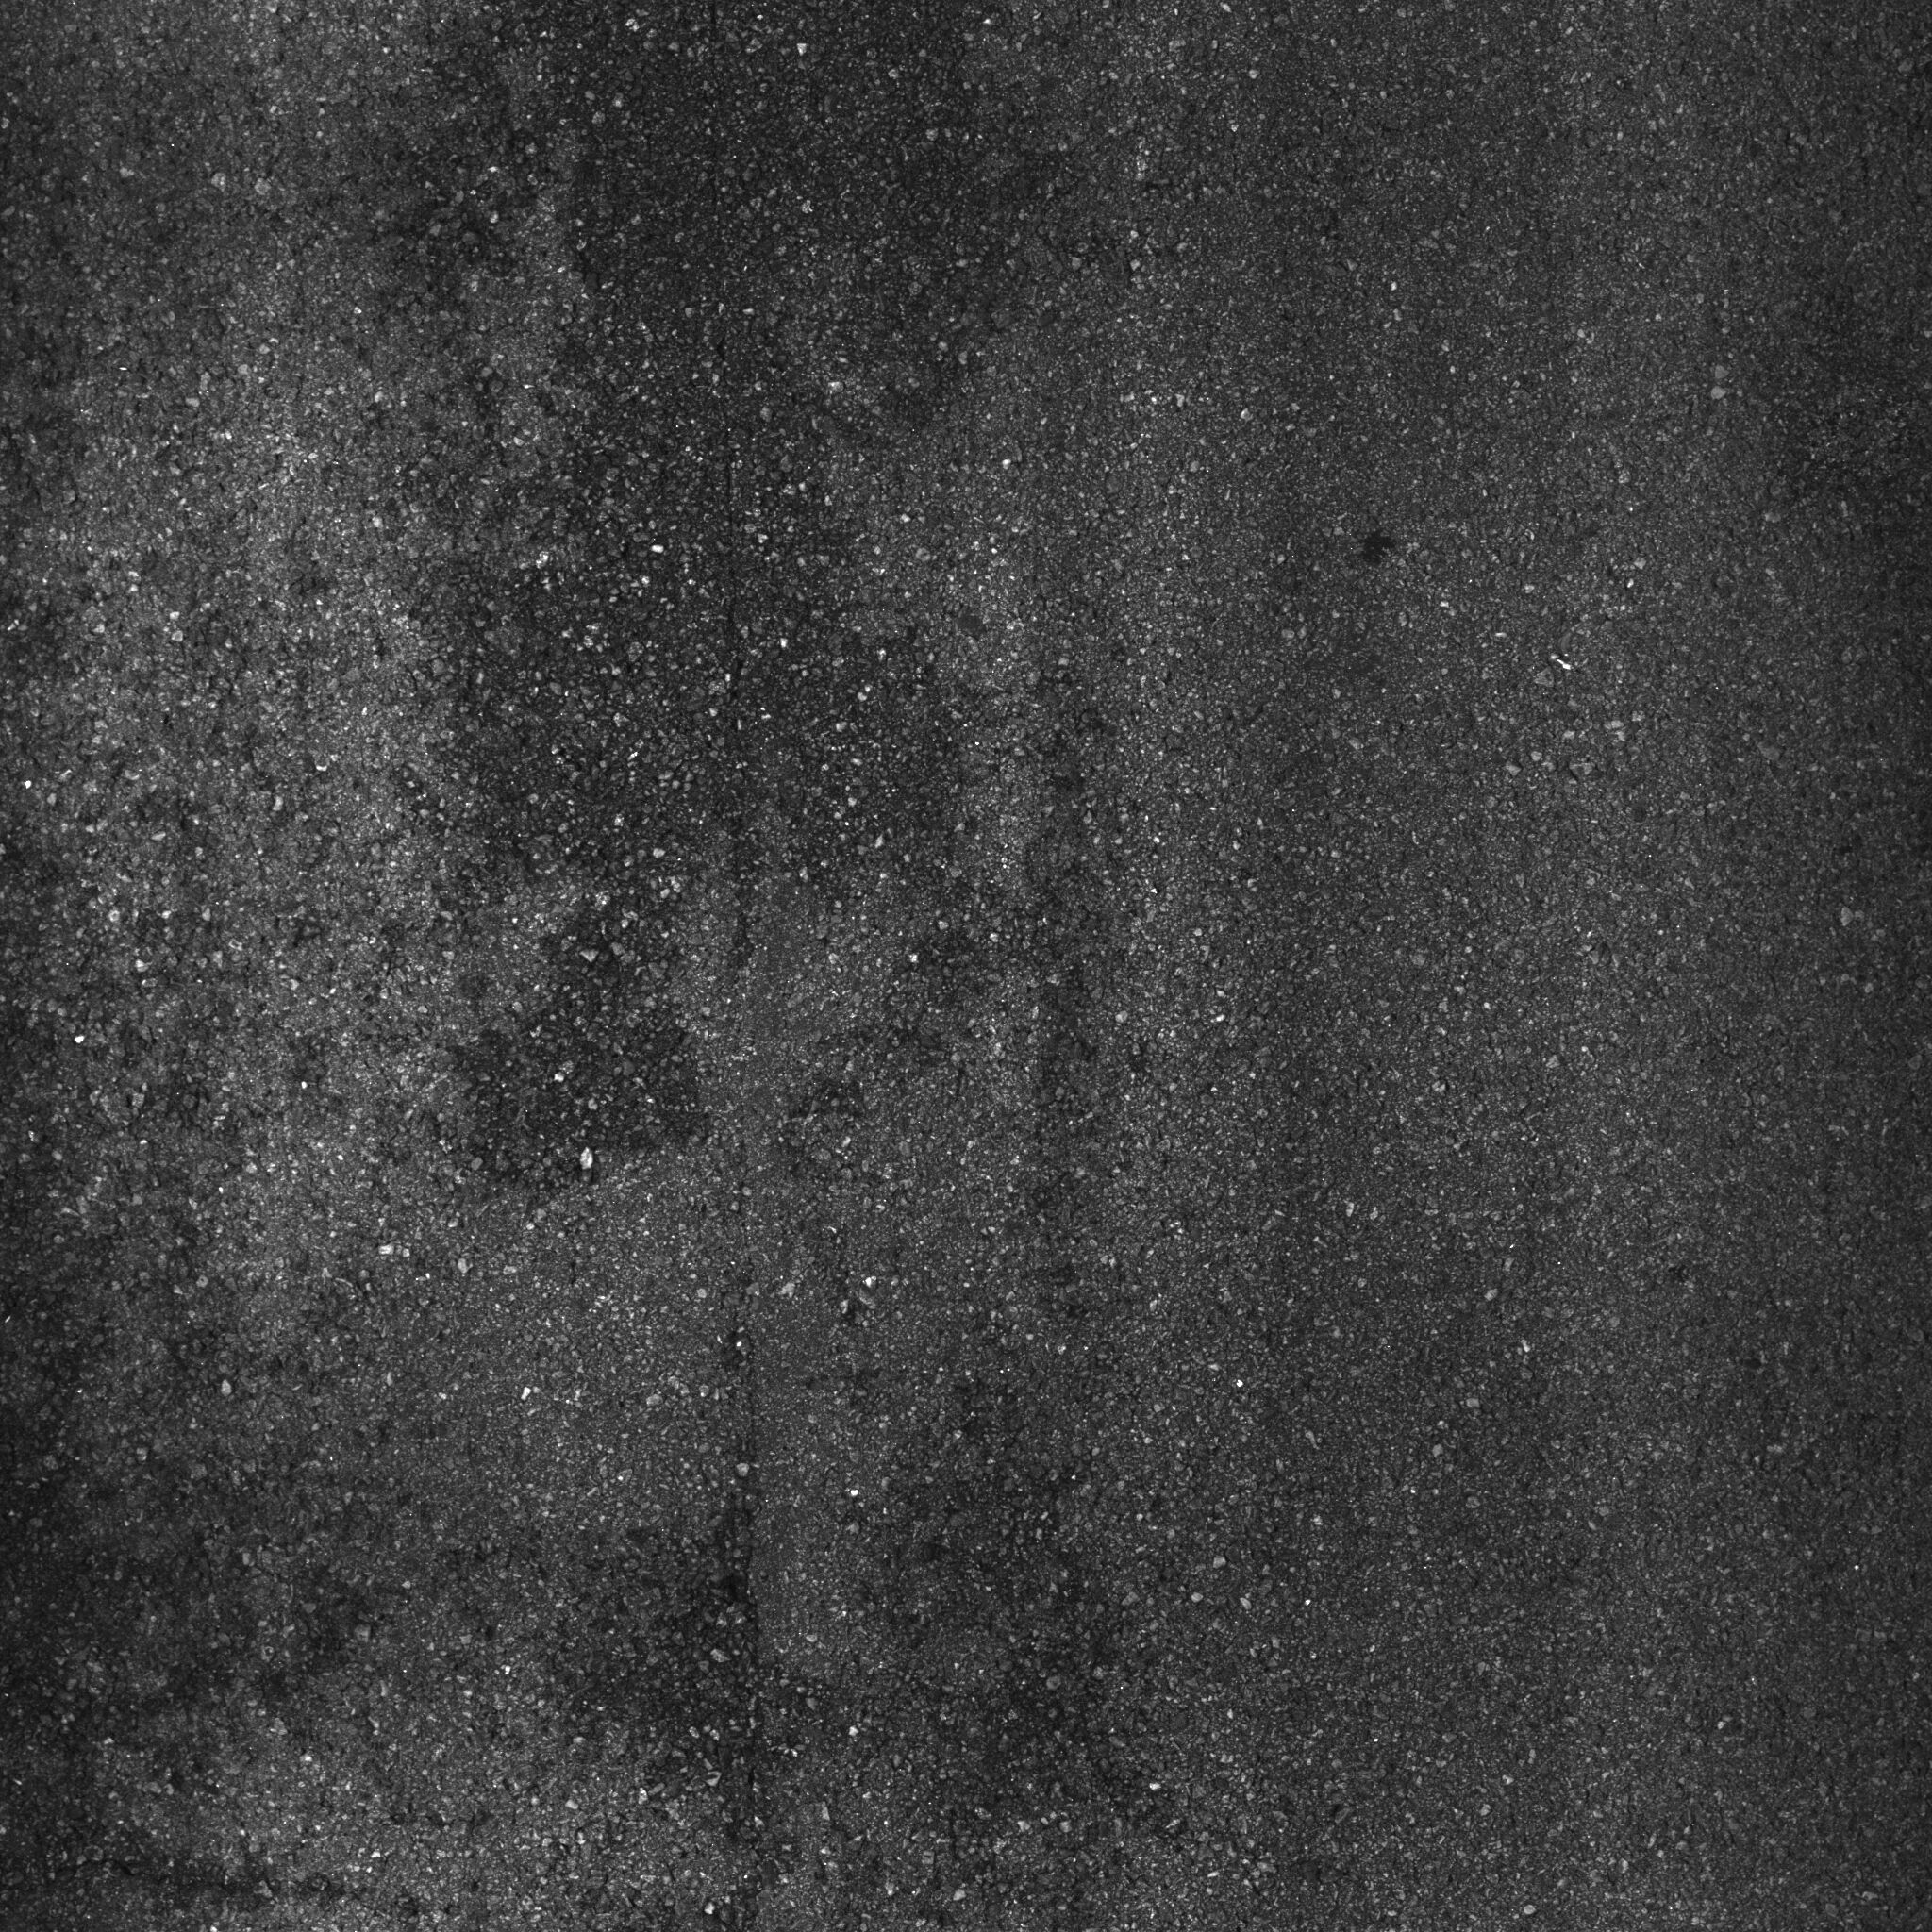longitudinal: (688, 301, 775, 985), (708, 1123, 798, 1759)
